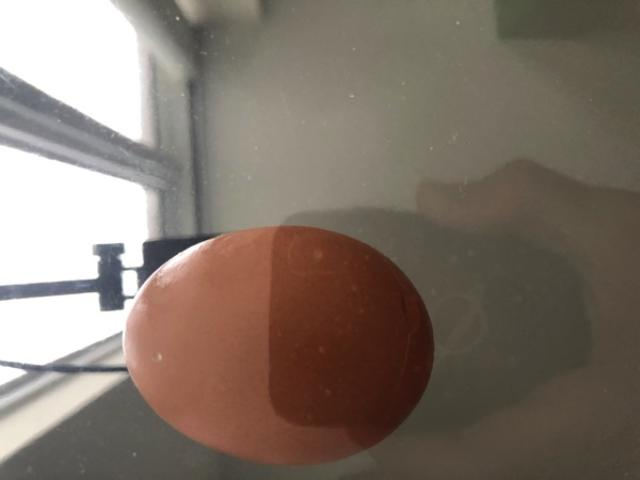Roto: (122, 223, 435, 466)
